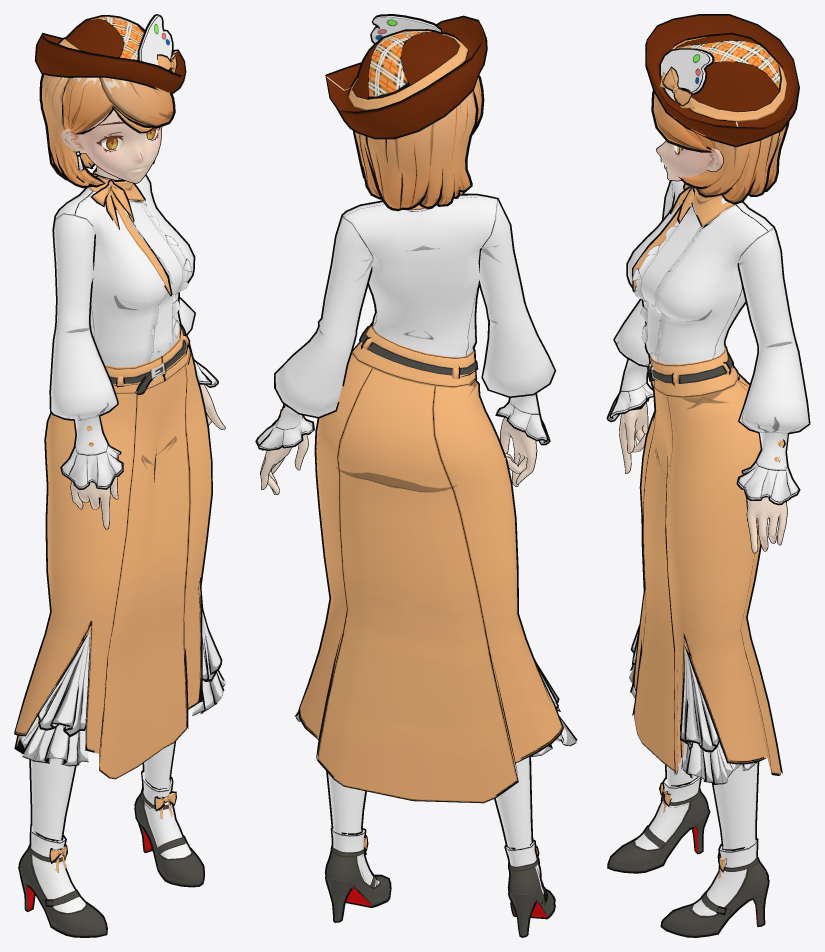
Rendered from SK_Cartoon_29.gltf.
The picture shows the model from 3 angles, left to right: view 1: azimuth 30°, elevation 25°; view 2: azimuth 150°, elevation 25°; view 3: azimuth 270°, elevation 25°; orthographic projection. The views are drawn at different scales.
Visible parts, largest first — view 1: SK_Cartoon_Female_029_Pose_11_StaticMeshComponent0; view 2: SK_Cartoon_Female_029_Pose_11_StaticMeshComponent0; view 3: SK_Cartoon_Female_029_Pose_11_StaticMeshComponent0.
Part boxes in pixels (x1,y1,x2,y2): SK_Cartoon_Female_029_Pose_11_StaticMeshComponent0: (14, 14, 225, 937); SK_Cartoon_Female_029_Pose_11_StaticMeshComponent0: (255, 14, 577, 937); SK_Cartoon_Female_029_Pose_11_StaticMeshComponent0: (606, 14, 810, 937).
Bounding box in the file's own units: 0.5303 × 1.71 × 0.3652.
Materials: 2 (1 with a texture image).
